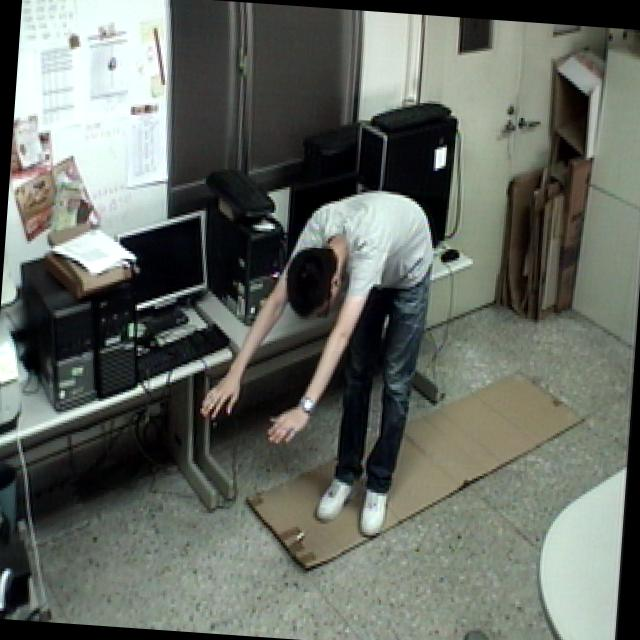bend: (190, 174, 444, 554)
